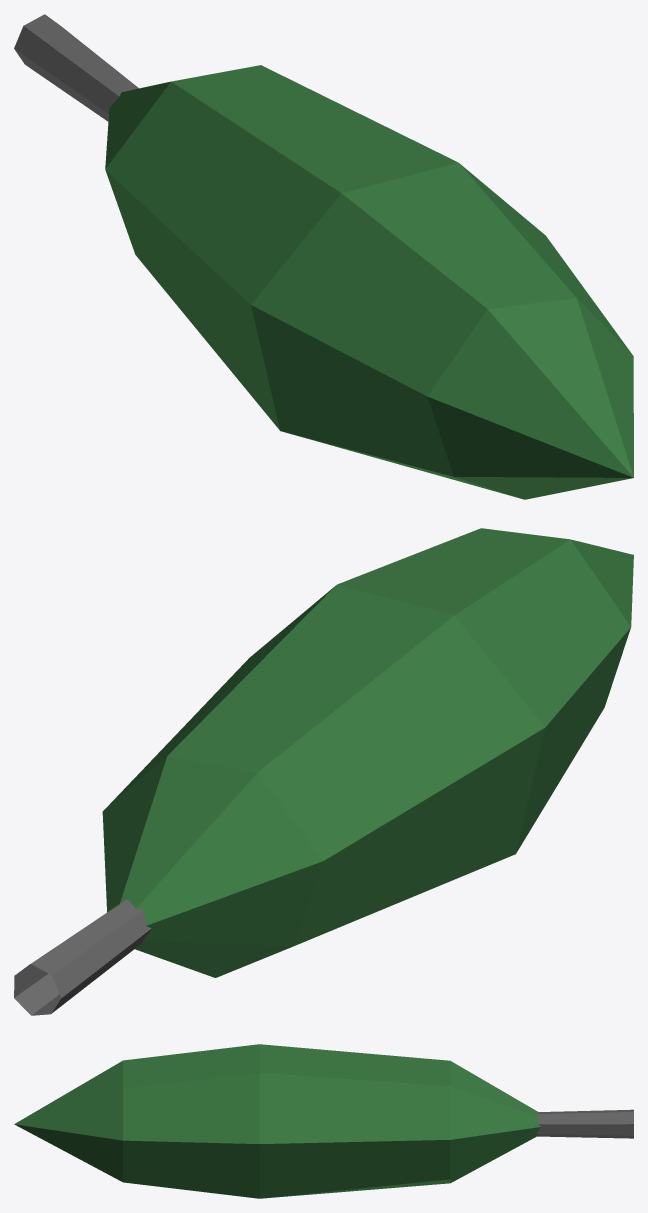
Rendered from grown.glb.
3 renders of one model, top to bottom at view 1: azimuth 30°, elevation 25°; view 2: azimuth 150°, elevation 25°; view 3: azimuth 270°, elevation 25°, orthographic. The views are drawn at different scales.
Visible parts, largest first — view 1: tree_10_grown; view 2: tree_10_grown; view 3: tree_10_grown.
Part boxes in pixels (left/top/right/bottom): tree_10_grown: left=14, top=14, right=633, bottom=499; tree_10_grown: left=14, top=528, right=633, bottom=1015; tree_10_grown: left=14, top=1044, right=633, bottom=1198.
Bounding box in the file's own units: 9.87 × 8.54 × 34.47.
